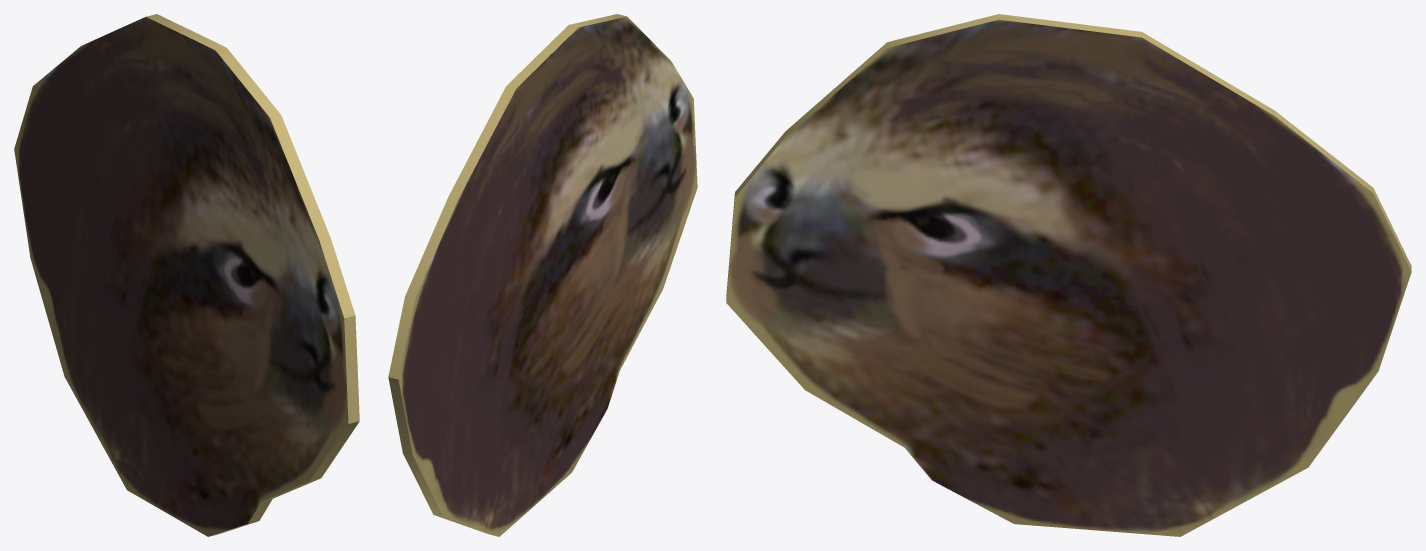
The model's file is Sloth_head.fbx.
The picture shows the model from 3 angles, left to right: view 1: azimuth 30°, elevation 25°; view 2: azimuth 150°, elevation 25°; view 3: azimuth 270°, elevation 25°; orthographic projection. The views are drawn at different scales.
Parts seen in each view (by area): view 1: Sloth_head; view 2: Sloth_head; view 3: Sloth_head.
Boxes of the visible parts, bbox=[...] form: Sloth_head: bbox=[14, 14, 359, 536]; Sloth_head: bbox=[388, 14, 697, 536]; Sloth_head: bbox=[726, 14, 1411, 536].
Size of the model in its own units: 1 by 42.57 by 51.13.
